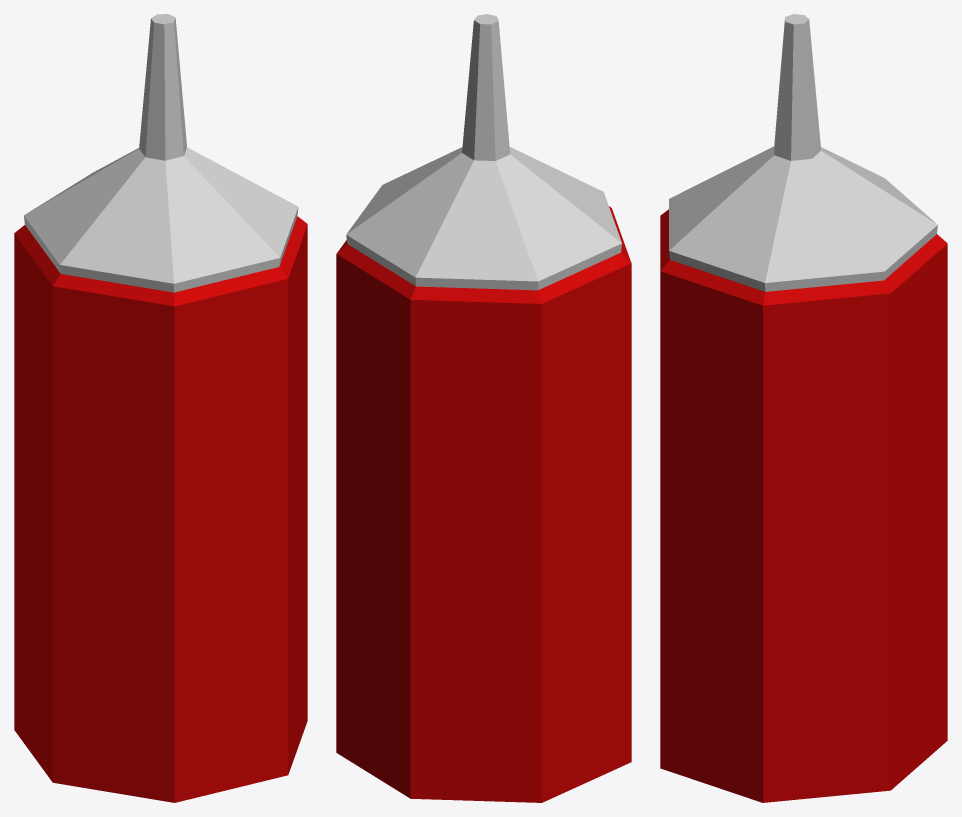
The model's file is ketchup.fbx.
3 renders of one model, left to right at view 1: azimuth 30°, elevation 25°; view 2: azimuth 150°, elevation 25°; view 3: azimuth 270°, elevation 25°, orthographic.
Visible parts, largest first — view 1: Cylinder; view 2: Cylinder; view 3: Cylinder.
Boxes of the visible parts, x1=… form: Cylinder: x1=14, y1=14, x2=307, y2=802; Cylinder: x1=336, y1=14, x2=631, y2=802; Cylinder: x1=660, y1=14, x2=947, y2=802.
Size of the model in its own units: 0.0812 by 0.2193 by 0.0792.
